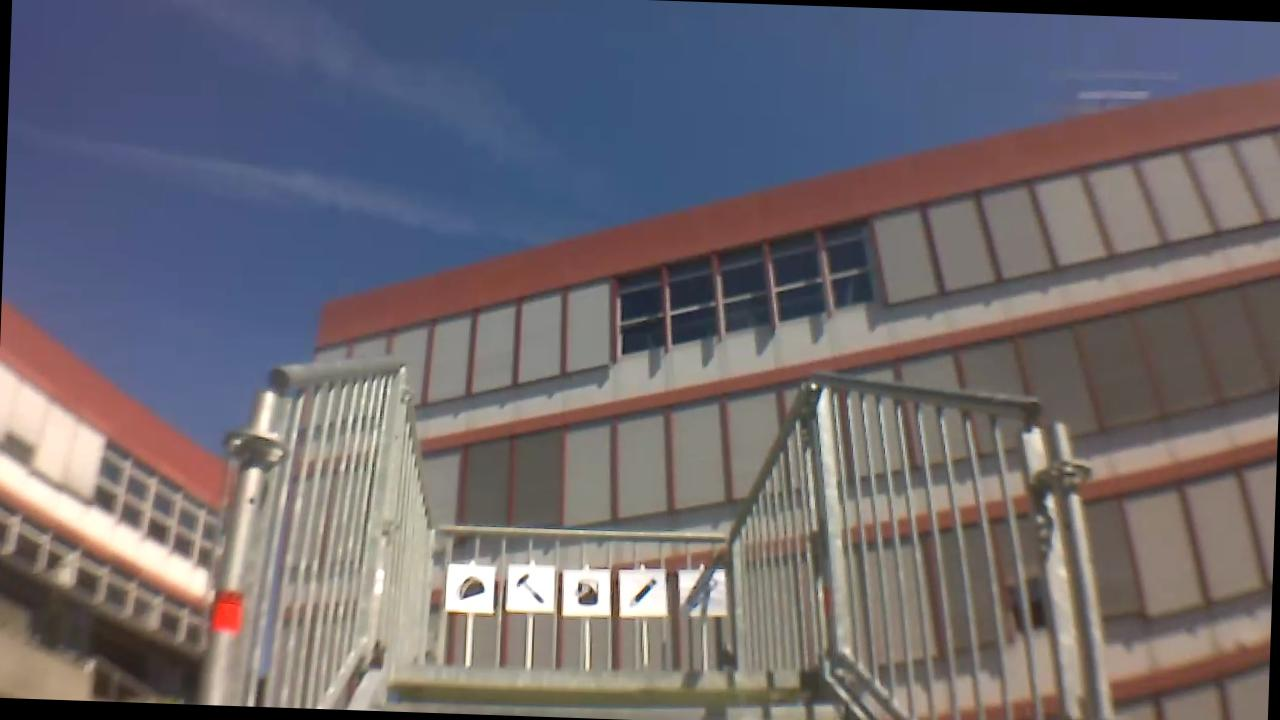edge: (386, 653, 830, 700), (366, 690, 849, 720)
stairs: (204, 357, 1120, 720)
